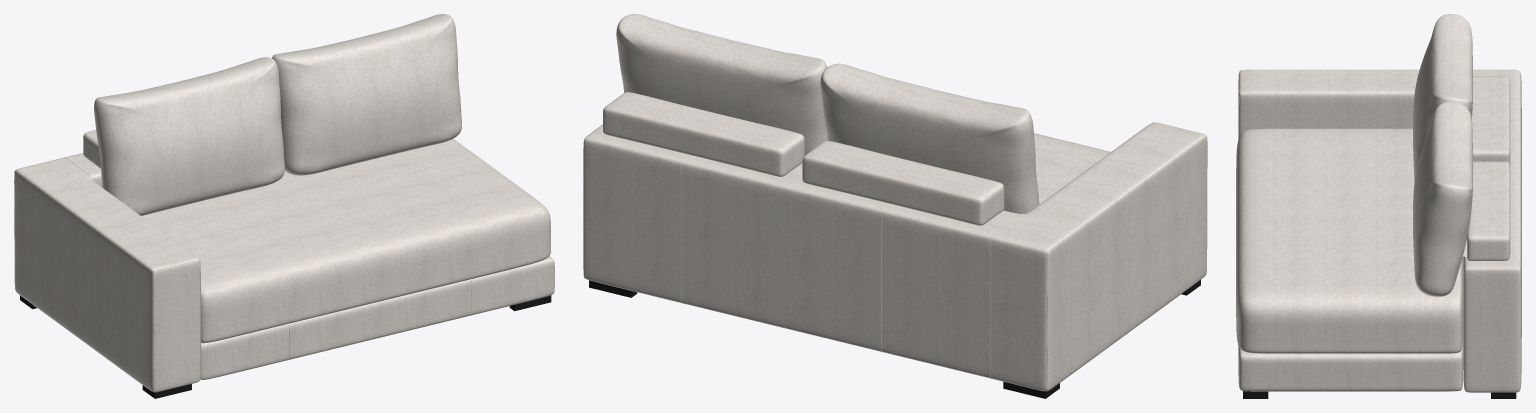
File: arm2seats.glb
3 views of the same model, side by side, from view 1: azimuth 30°, elevation 25°; view 2: azimuth 150°, elevation 25°; view 3: azimuth 270°, elevation 25° (orthographic). The views are drawn at different scales.
Visible parts, largest first — view 1: object 5, Alm. da costa (×2), object 17, object 7, apoio de costa; view 2: object 17, Alm. da costa (×2), apoio de costa (×2), object 5; view 3: object 5, object 17, Alm. da costa (×2), object 7, apoio de costa (×2).
Part boxes in pixels (x1,y1,x2,y2): object 5: [141, 138, 550, 343]; Alm. da costa (×2): [94, 14, 461, 215]; object 17: [14, 153, 200, 392]; object 7: [200, 256, 554, 379]; apoio de costa: [83, 130, 100, 168]; object 17: [583, 122, 1207, 391]; Alm. da costa (×2): [616, 14, 1039, 213]; apoio de costa (×2): [603, 92, 1004, 225]; object 5: [1034, 133, 1110, 204]; object 5: [1236, 128, 1463, 353]; object 17: [1238, 69, 1521, 392]; Alm. da costa (×2): [1413, 14, 1472, 296]; object 7: [1238, 338, 1463, 391]; apoio de costa (×2): [1462, 76, 1510, 260].
Size of the model in its own units: 1.87 by 0.934 by 1.13.
2 materials, 1 textured.
